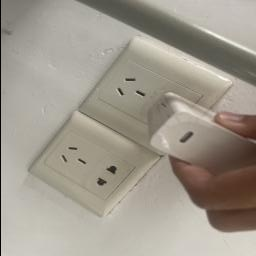outlet: (79, 27, 233, 155), (24, 117, 164, 228)
